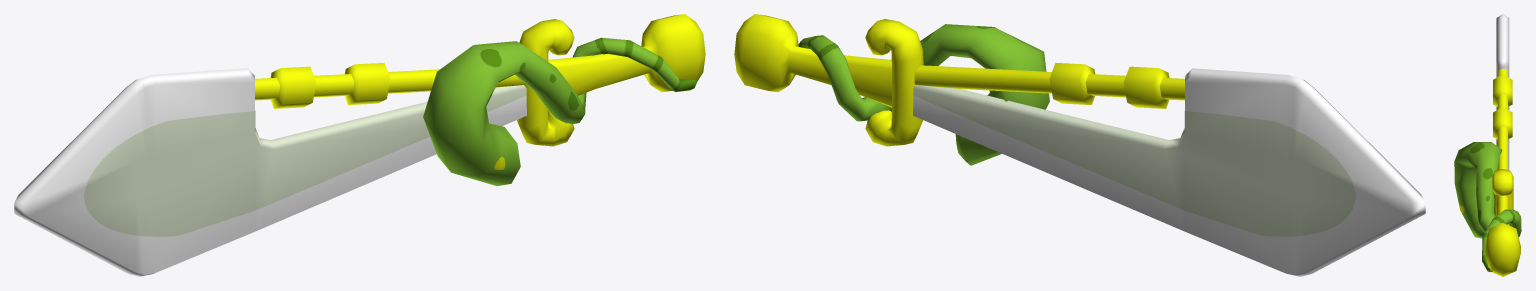
Rendered from sword_01.fbx.
3 renders of one model, left to right at view 1: azimuth 30°, elevation 25°; view 2: azimuth 150°, elevation 25°; view 3: azimuth 270°, elevation 25°, orthographic. The views are drawn at different scales.
Parts seen in each view (by area): view 1: sword 02; view 2: sword 02; view 3: sword 02.
Part boxes in pixels (box(x1,y1,x2,y2)): sword 02: box(14, 14, 705, 276); sword 02: box(734, 14, 1425, 276); sword 02: box(1454, 14, 1521, 276).
Size of the model in its own units: 35.94 by 9.97 by 4.7.
